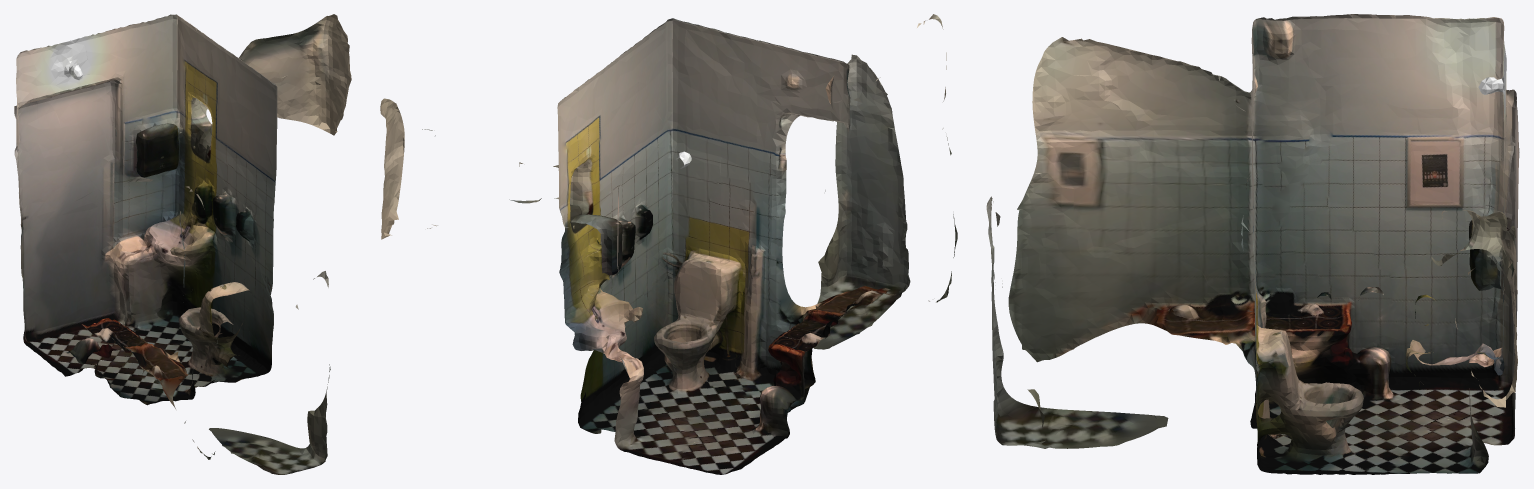
File: scan04.glb
3 views of the same model, side by side, from view 1: azimuth 30°, elevation 25°; view 2: azimuth 150°, elevation 25°; view 3: azimuth 270°, elevation 25° (orthographic). The views are drawn at different scales.
Bounding box in the file's own units: 2.79 × 2.47 × 3.19.
1 material, 1 textured.
